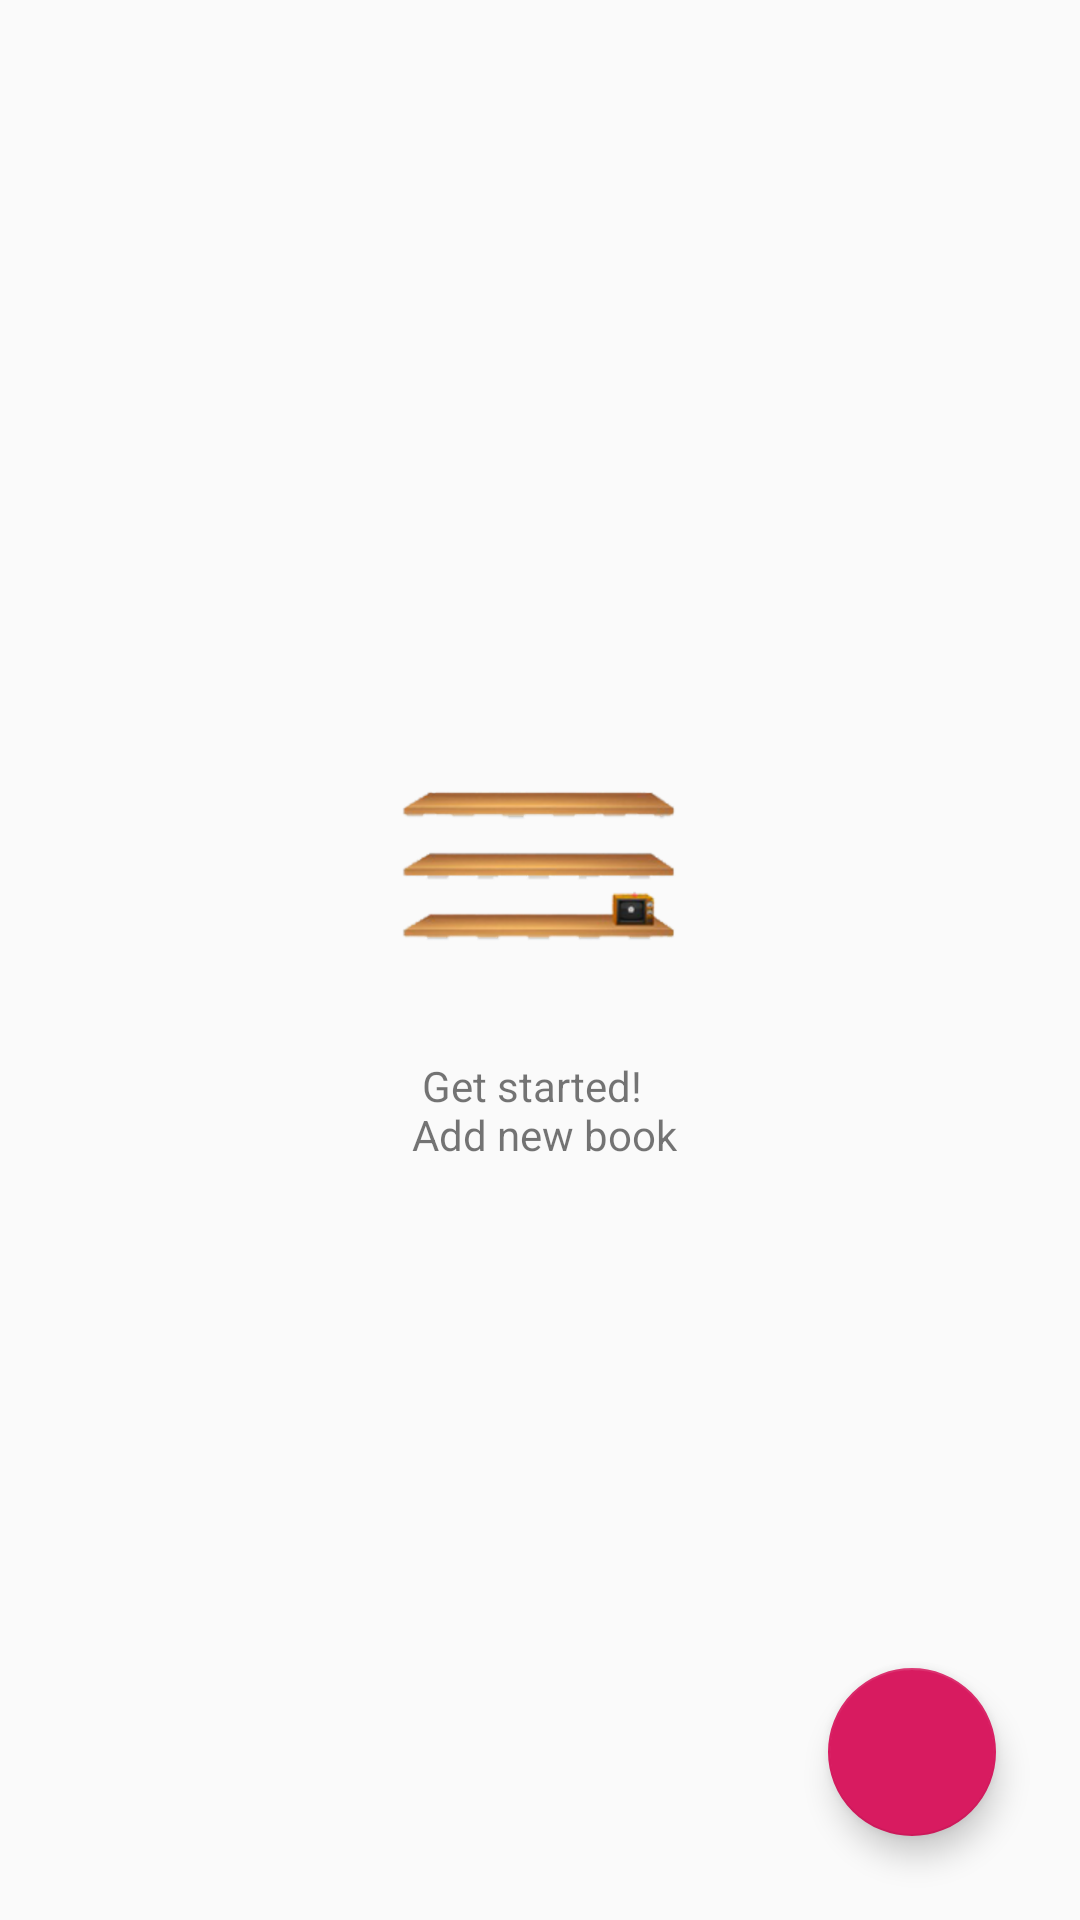

Icons on this 1080w x 1920h Android screen, each with its box as (x1, y1, x2, y2):
empty shelf: (403, 792, 674, 939)
